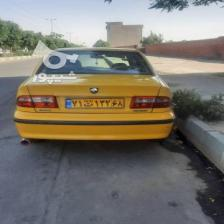plate: (64, 96, 126, 109)
